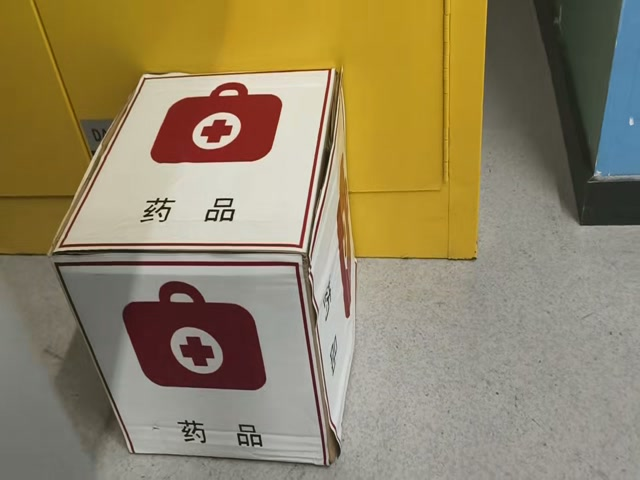Cube_medicine: (52, 70, 355, 463)
